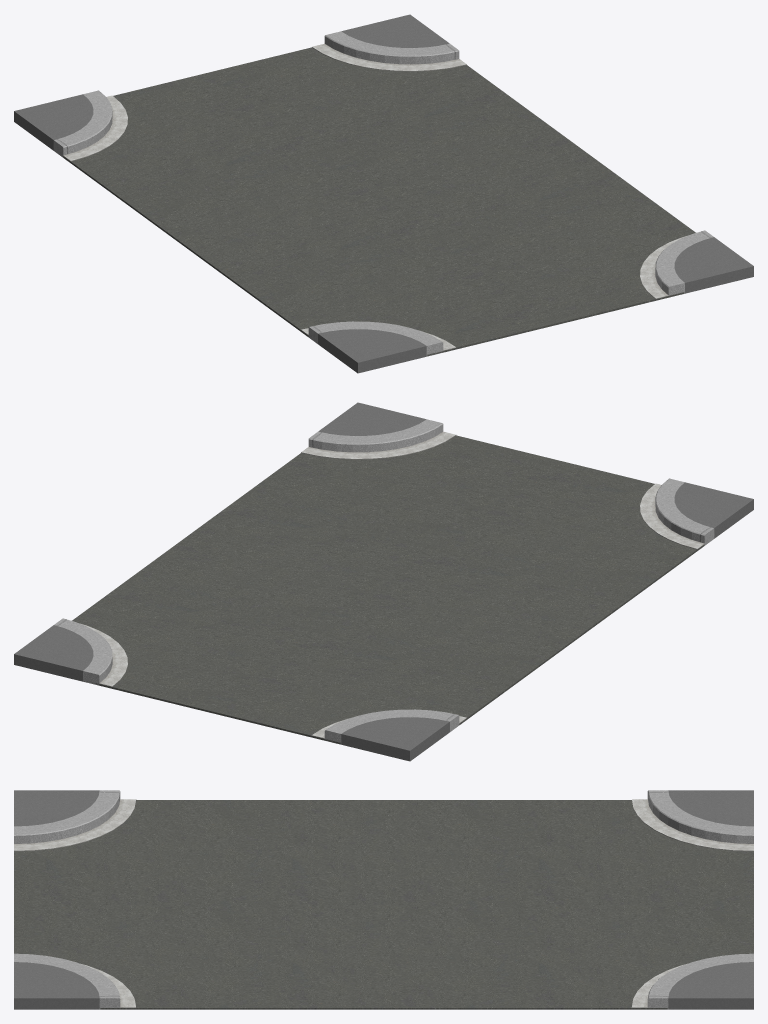
The model's file is sweethome3d-scopia-crossroad-1x2-lanes.glb.
The picture shows the model from 3 angles, top to bottom: view 1: azimuth 30°, elevation 25°; view 2: azimuth 150°, elevation 25°; view 3: azimuth 270°, elevation 25°; orthographic projection. The views are drawn at different scales.
Visible parts, largest first — view 1: croisement1et2_Plane.028; view 2: croisement1et2_Plane.028; view 3: croisement1et2_Plane.028.
Part boxes in pixels (<box>): croisement1et2_Plane.028: <box>14,14,753,373</box>; croisement1et2_Plane.028: <box>14,402,753,761</box>; croisement1et2_Plane.028: <box>14,790,753,1009</box>.
Size of the model in its own units: 695 by 18 by 1045.
13 materials, 13 textured.
